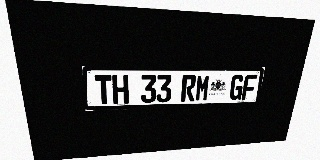3: (156, 75, 172, 103), (141, 75, 156, 103)
F: (241, 75, 257, 100)
G: (229, 75, 245, 100)
H: (112, 75, 129, 104)
M: (195, 75, 211, 101)
R: (181, 75, 197, 102)
T: (94, 75, 113, 104)
